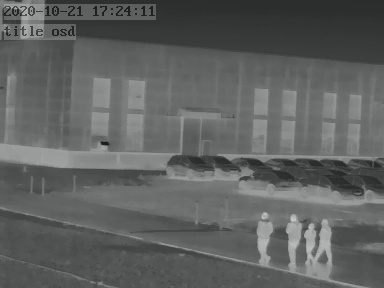person: (256, 209, 275, 265), (285, 212, 302, 267), (317, 220, 333, 264), (304, 223, 317, 265)
vehicle: (240, 169, 302, 191), (307, 173, 357, 200), (164, 153, 213, 179), (202, 153, 242, 177), (349, 173, 382, 200), (233, 155, 269, 171), (347, 155, 381, 170), (262, 155, 296, 169), (295, 155, 324, 169), (319, 156, 349, 169)
